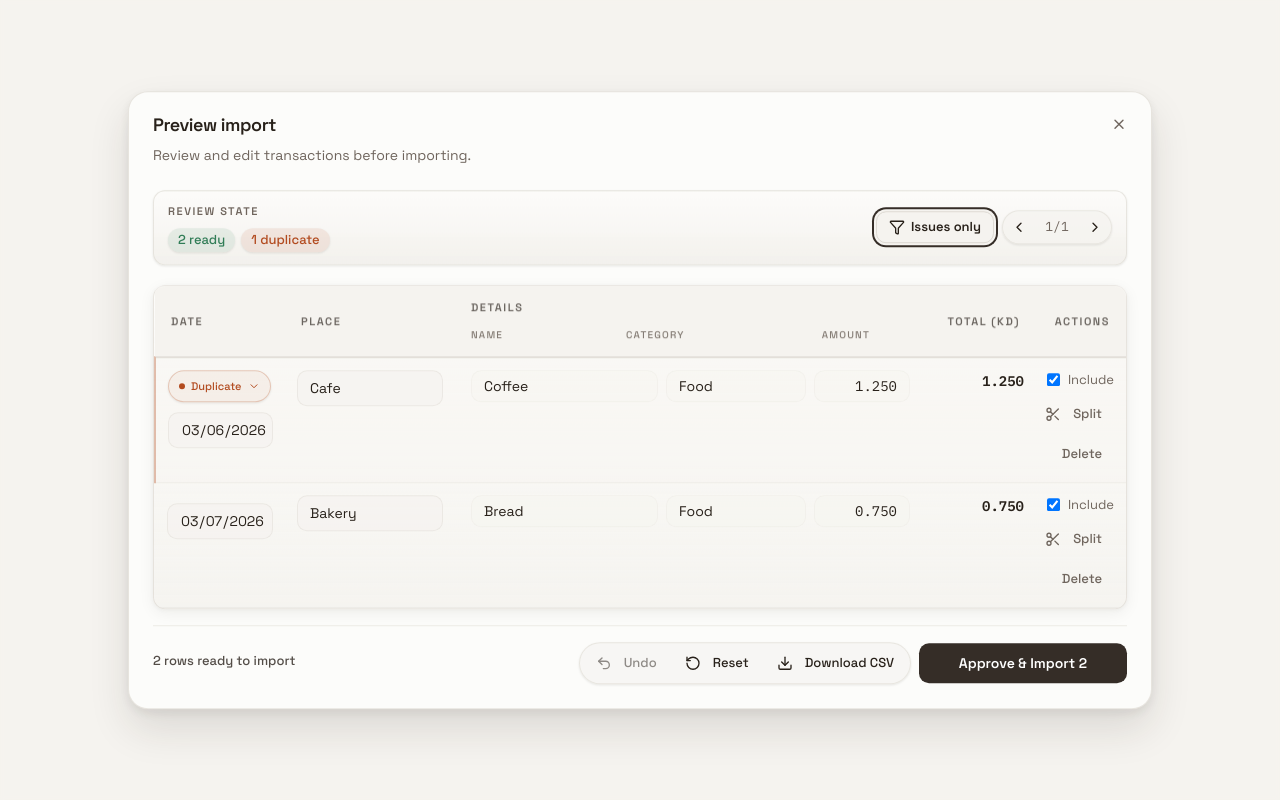
it: PreviewImportDialog › updates the sticky summary counts and import button label as rows are excluded
This screenshot has width=1280, height=800.
Expected: the text "2 ready" is shown, [168,228,235,252]
Expected: the text "1 duplicate" is shown, [241,228,330,252]
Click the checkbox named "Include row 1 in import": (1053, 380) [1047,373,1060,386]
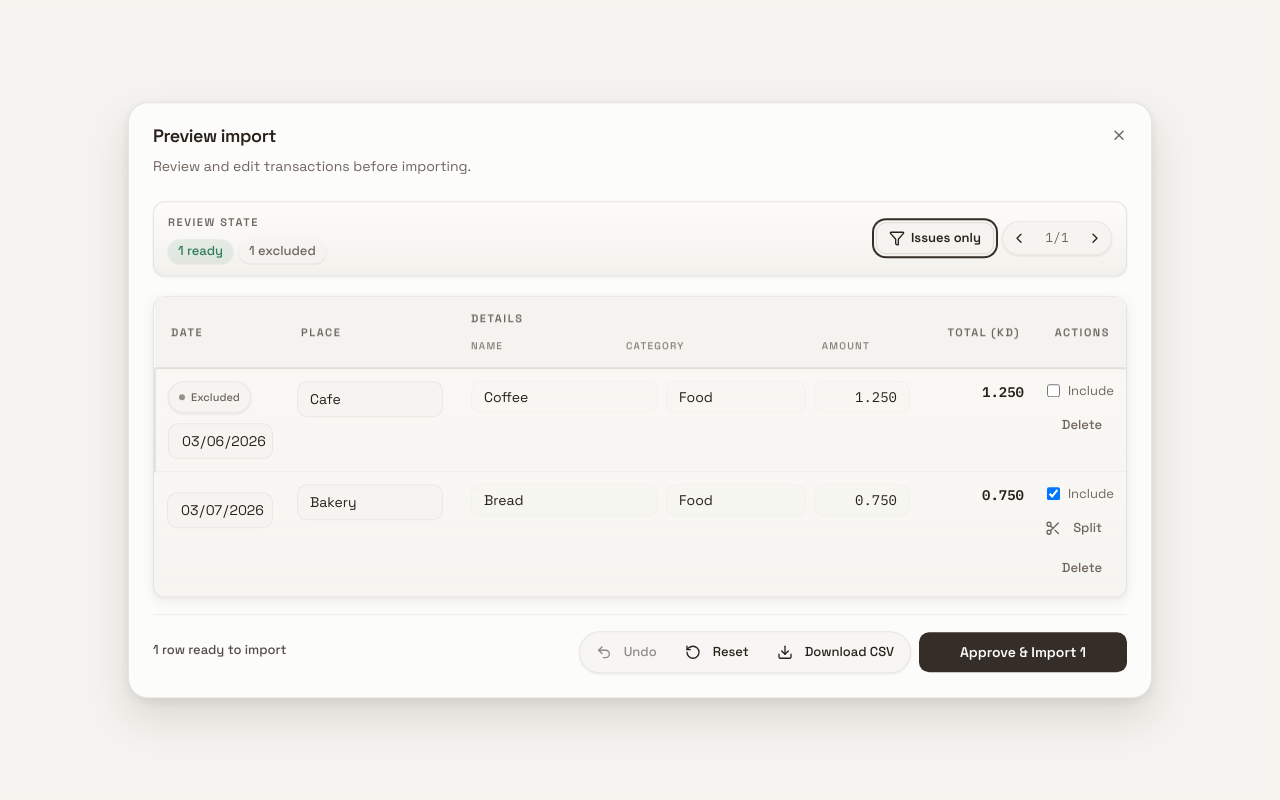
Expected: the text "1 ready" is shown, [168,239,233,263]
Expected: the text "1 excluded" is shown, [239,239,326,263]
Expected: the text "1 duplicate" is gone
